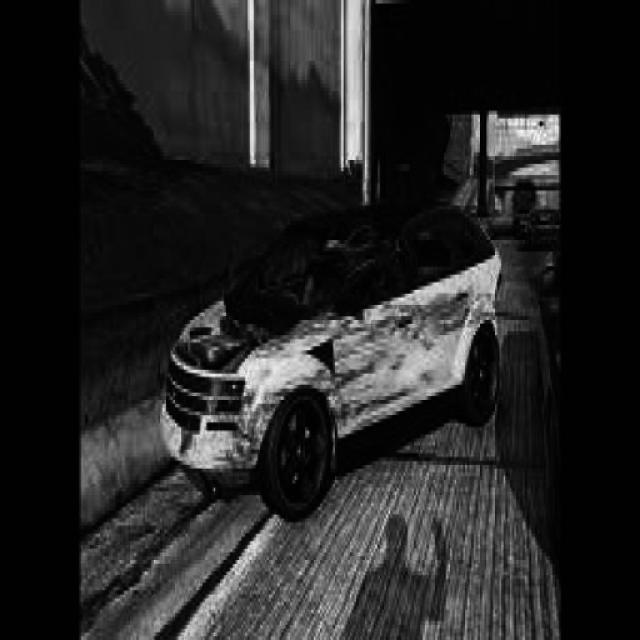car damage: (160, 211, 498, 496)
